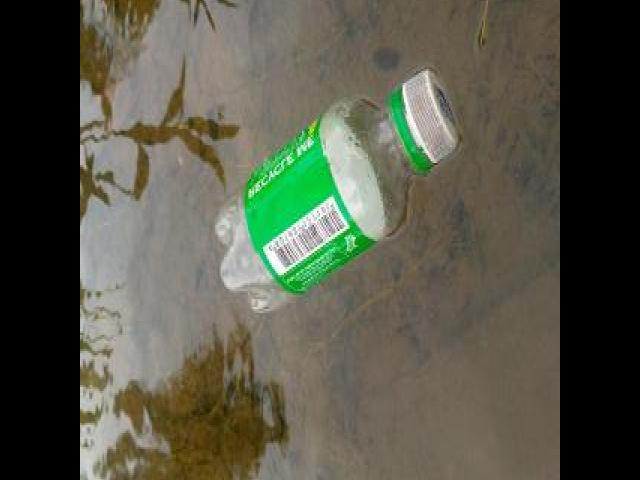Bottle: (210, 60, 466, 318)
